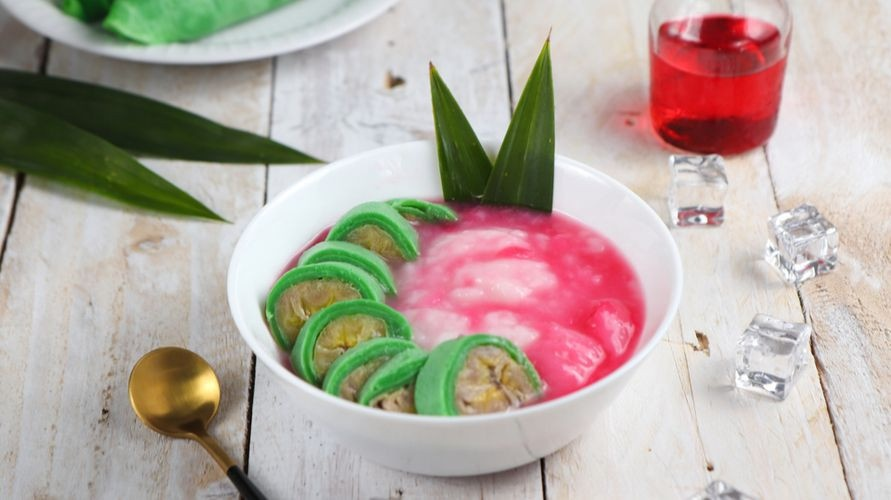es_pisang_ijo: (266, 196, 649, 417)
